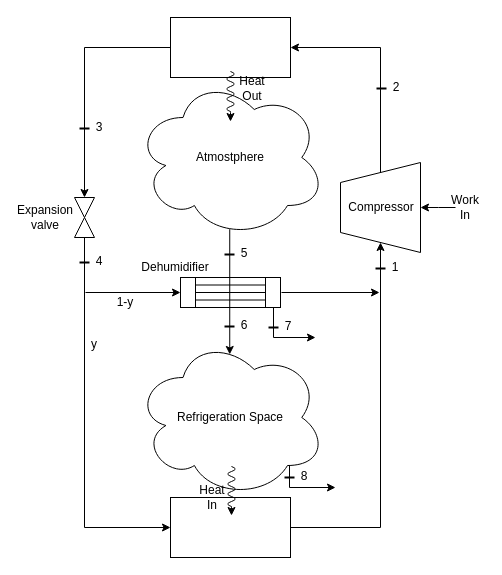
Some shapes in this 502 by 575 pixel diagram are drawn without their labels. Here are the shapes that lost their labels. From the top down, the centre of each, then its label:
At point (230, 47): "Condenser".
At point (230, 527): "Evaporator".
